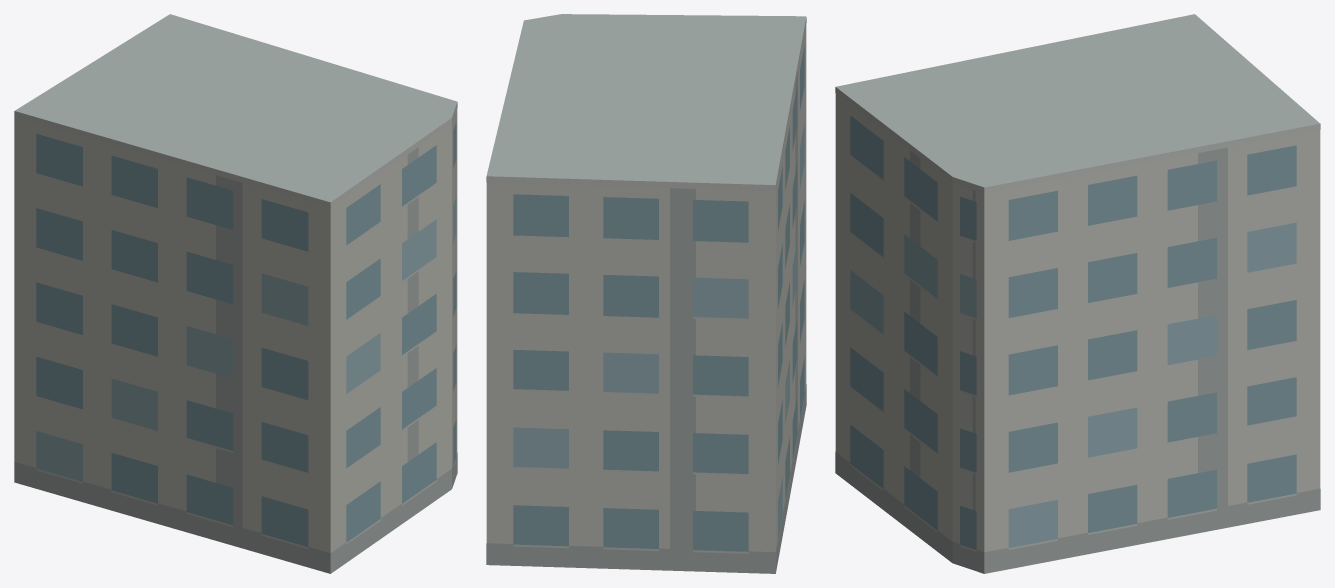
Rendered from survey-upis-32629639.glb.
The picture shows the model from 3 angles, left to right: view 1: azimuth 30°, elevation 25°; view 2: azimuth 150°, elevation 25°; view 3: azimuth 270°, elevation 25°; orthographic projection. The views are drawn at different scales.
Parts seen in each view (by area): view 1: survey-upis-32629639.tmp; view 2: survey-upis-32629639.tmp; view 3: survey-upis-32629639.tmp.
Boxes of the visible parts, x1,y1,x2,y2 form: survey-upis-32629639.tmp: (14, 14, 457, 573); survey-upis-32629639.tmp: (486, 14, 806, 573); survey-upis-32629639.tmp: (835, 14, 1320, 573).
Size of the model in its own units: 14.69 by 15.25 by 17.36.
